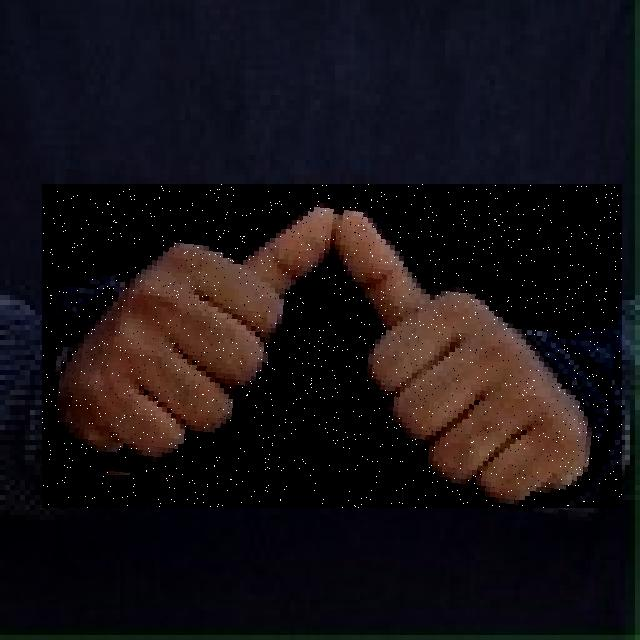A: (42, 184, 622, 508)
